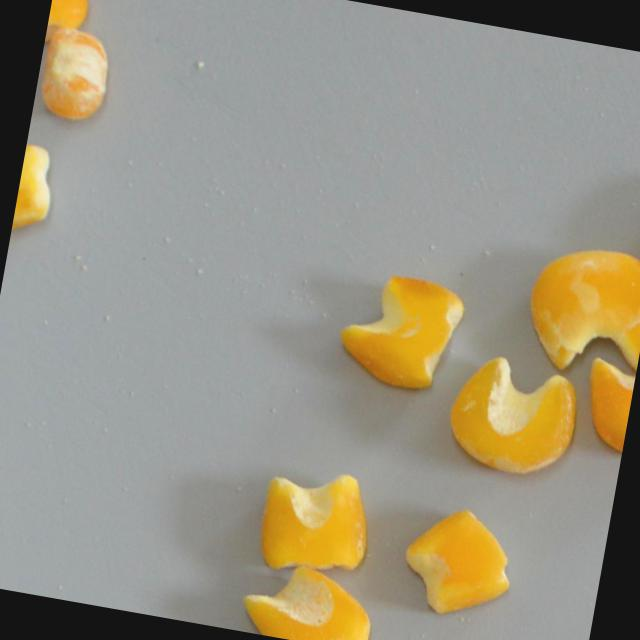dañado: (439, 345, 589, 485), (328, 260, 470, 404), (391, 495, 523, 627), (248, 455, 381, 586), (571, 319, 640, 460), (33, 19, 120, 129), (10, 138, 63, 244), (42, 0, 90, 59)
pelicula: (512, 231, 640, 386)
punto_negro: (233, 553, 383, 640)
